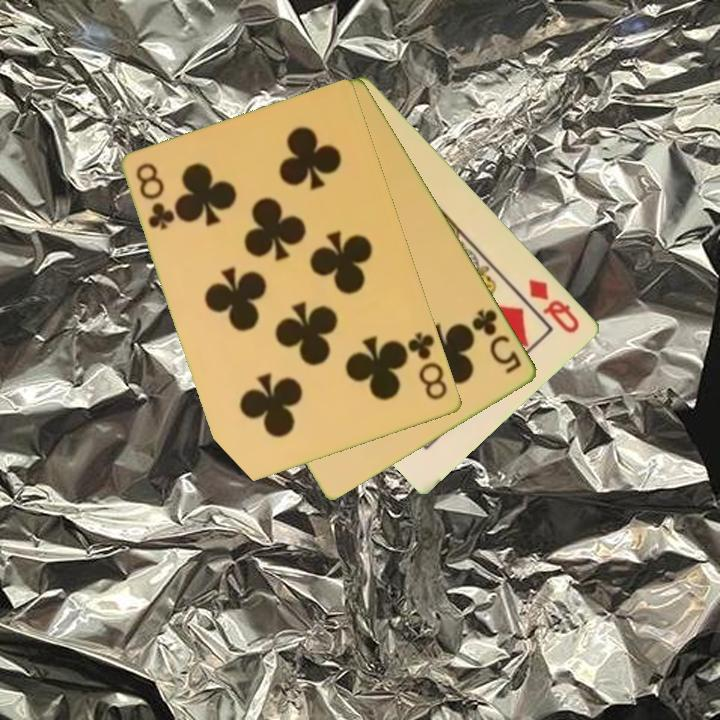5c: (468, 305, 526, 376)
8c: (404, 328, 451, 404), (133, 159, 178, 233)
Qd: (525, 275, 583, 336)
